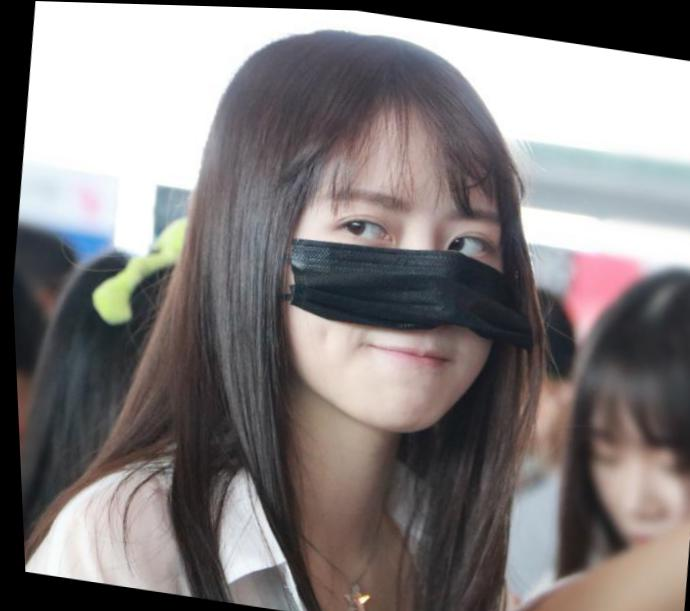NONE: (555, 402, 690, 598)
WRONG: (251, 141, 528, 442)
